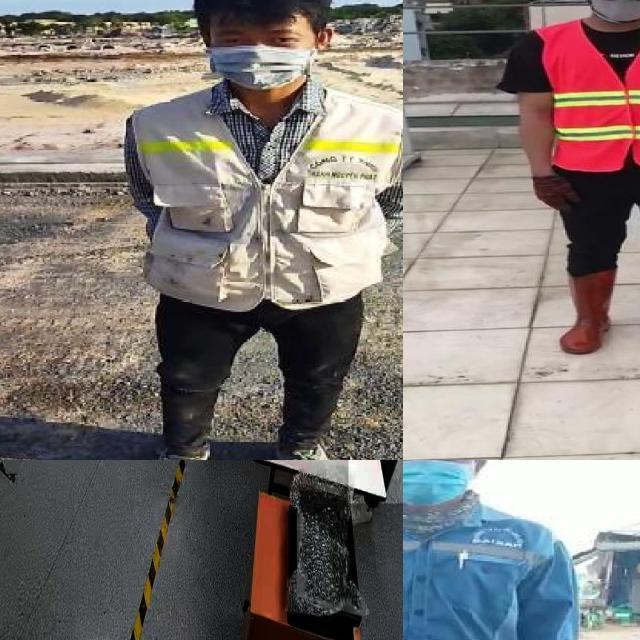boots: (558, 272, 620, 353)
face_mask: (206, 27, 318, 90), (403, 460, 476, 504)
head_nohelmet: (190, 0, 330, 28)
person: (115, 0, 403, 460), (503, 0, 640, 366), (403, 460, 583, 640)
shoes: (265, 431, 356, 460), (127, 435, 213, 460)
vest: (128, 84, 403, 308), (542, 18, 640, 170)
